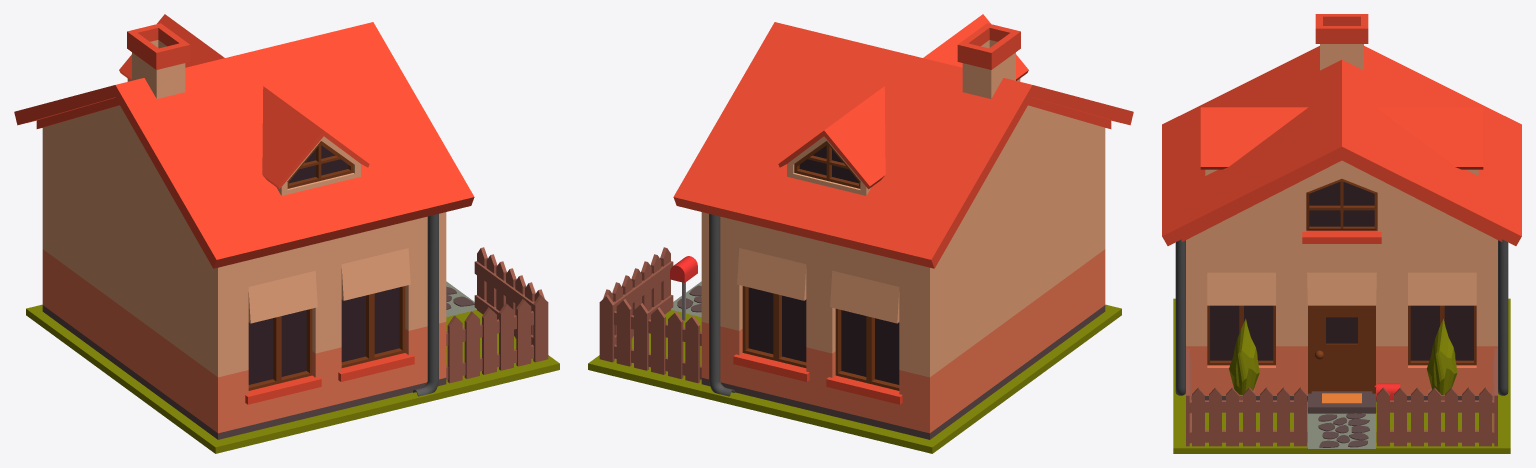
File: PublicBuilding_3C.obj
3 renders of one model, left to right at view 1: azimuth 30°, elevation 25°; view 2: azimuth 150°, elevation 25°; view 3: azimuth 270°, elevation 25°, orthographic. The views are drawn at different scales.
Parts seen in each view (by area): view 1: PublicBuilding_3_Building18_Cube.001; view 2: PublicBuilding_3_Building18_Cube.001; view 3: PublicBuilding_3_Building18_Cube.001.
Part boxes in pixels (x1,y1,x2,y2): PublicBuilding_3_Building18_Cube.001: [14, 14, 559, 453]; PublicBuilding_3_Building18_Cube.001: [588, 14, 1133, 453]; PublicBuilding_3_Building18_Cube.001: [1162, 14, 1521, 453].
Size of what is drawn, in the model's own units: 3.68 by 3.39 by 3.69.
1 material, 1 textured.
